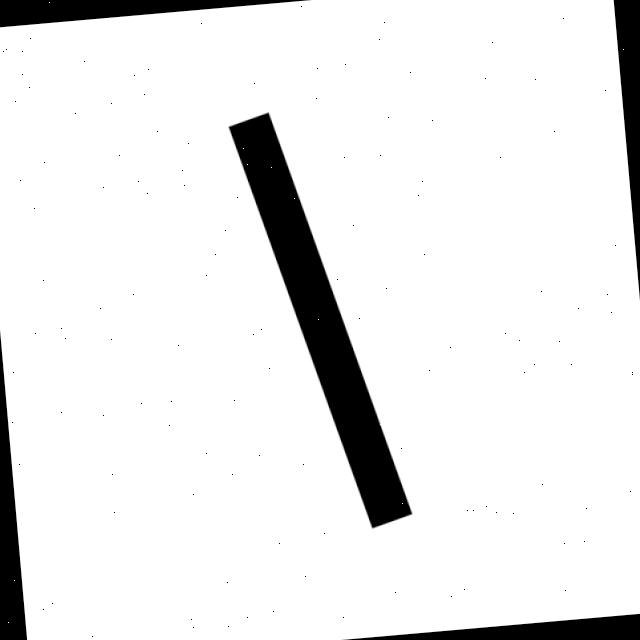line: (228, 112, 412, 528)
